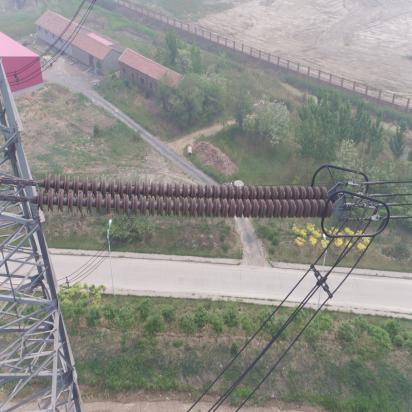insulator: (8, 171, 338, 219)
